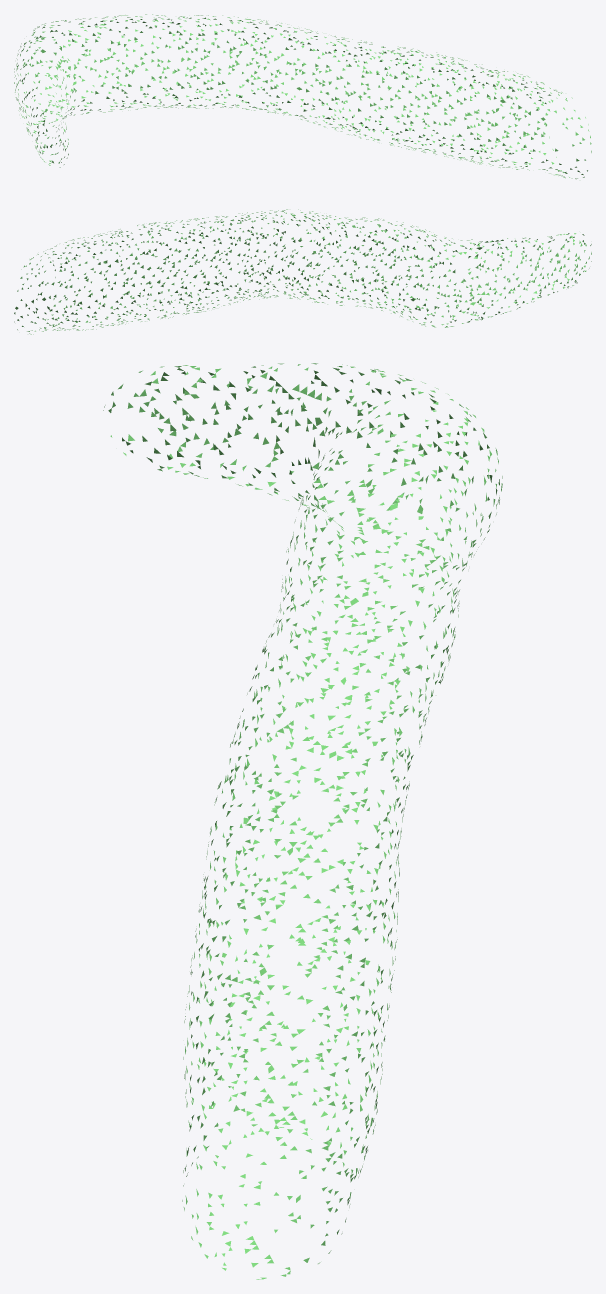
Rendered from morph_017.glb.
3 views of the same model, one above another, from view 1: azimuth 30°, elevation 25°; view 2: azimuth 150°, elevation 25°; view 3: azimuth 270°, elevation 25° (orthographic). The views are drawn at different scales.
Bounding box in the file's own units: 119 × 48.54 × 39.2.
